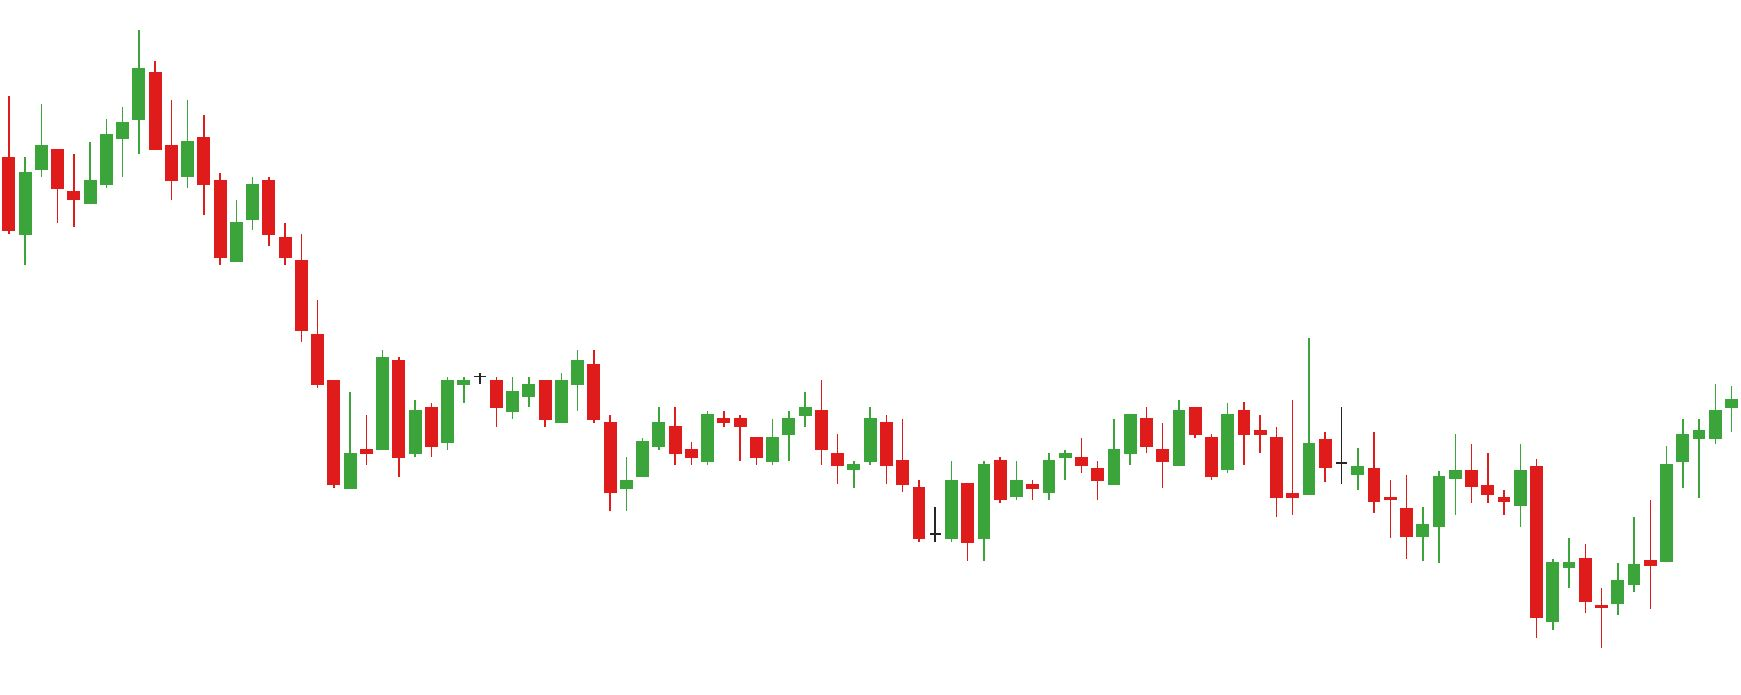buy: (1418, 460, 1576, 644)
sell: (31, 28, 167, 180)
